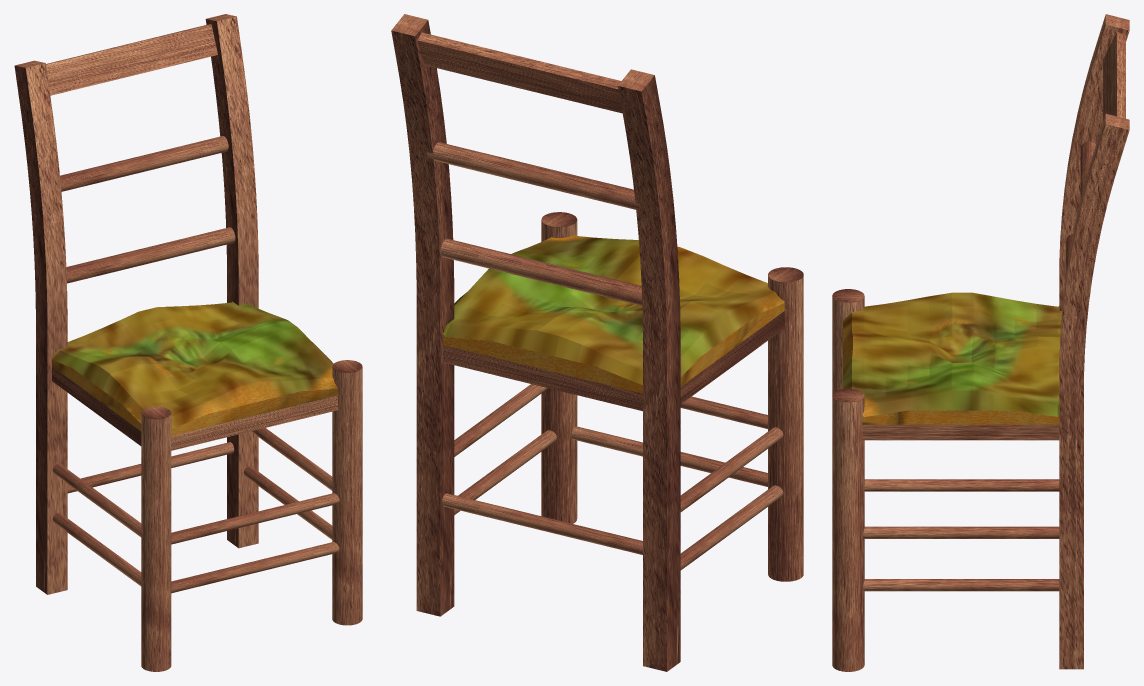
The model's file is chair1.gltf.
3 renders of one model, left to right at view 1: azimuth 30°, elevation 25°; view 2: azimuth 150°, elevation 25°; view 3: azimuth 270°, elevation 25°, orthographic. The views are drawn at different scales.
Visible parts, largest first — view 1: 큐브.003, 큐브.002, 큐브.001, 실린더.001, 실린더.004, 큐브.004, 큐브, 실린더.002, 실린더.003, 실린더.006, 실린더.007, 실린더.010 (+4 smaller); view 2: 큐브.003, 큐브.002, 큐브.001, 실린더.001, 큐브.004, 큐브, 실린더.004, 실린더.003, 실린더.002, 실린더.010, 실린더.007, 실린더 (+4 smaller); view 3: 큐브.003, 큐브.001, 실린더.004, 큐브.002, 큐브, 실린더.008, 실린더.009, 실린더.005, 큐브.004, 실린더.001, 실린더.003.
Boxes of the visible parts, x1=… form: 큐브.003: x1=52, y1=301, x2=337, y2=435; 큐브.002: x1=14, y1=60, x2=67, y2=594; 큐브.001: x1=205, y1=14, x2=258, y2=548; 실린더.001: x1=141, y1=406, x2=171, y2=671; 실린더.004: x1=332, y1=360, x2=362, y2=625; 큐브.004: x1=46, y1=24, x2=217, y2=95; 큐브: x1=52, y1=366, x2=337, y2=450; 실린더.002: x1=66, y1=227, x2=235, y2=283; 실린더.003: x1=60, y1=136, x2=228, y2=191; 실린더.006: x1=171, y1=493, x2=339, y2=544; 실린더.007: x1=171, y1=542, x2=339, y2=593; 실린더.010: x1=67, y1=442, x2=234, y2=493; 큐브.003: x1=443, y1=235, x2=784, y2=393; 큐브.002: x1=618, y1=69, x2=680, y2=671; 큐브.001: x1=391, y1=14, x2=454, y2=616; 실린더.001: x1=768, y1=267, x2=803, y2=581; 큐브.004: x1=417, y1=32, x2=622, y2=113; 큐브: x1=443, y1=311, x2=784, y2=411; 실린더.004: x1=541, y1=212, x2=577, y2=523; 실린더.003: x1=427, y1=142, x2=639, y2=209; 실린더.002: x1=440, y1=238, x2=642, y2=305; 실린더.010: x1=442, y1=493, x2=642, y2=554; 실린더.007: x1=571, y1=426, x2=767, y2=486; 실린더: x1=680, y1=427, x2=783, y2=511; 큐브.003: x1=842, y1=292, x2=1062, y2=424; 큐브.001: x1=1059, y1=113, x2=1129, y2=669; 실린더.004: x1=832, y1=388, x2=864, y2=671; 큐브.002: x1=1059, y1=14, x2=1129, y2=310; 큐브: x1=862, y1=424, x2=1059, y2=440; 실린더.008: x1=863, y1=579, x2=1059, y2=591; 실린더.009: x1=863, y1=526, x2=1059, y2=538; 실린더.005: x1=864, y1=479, x2=1059, y2=491; 큐브.004: x1=1103, y1=32, x2=1125, y2=121; 실린더.001: x1=832, y1=289, x2=864, y2=394; 실린더.003: x1=1080, y1=141, x2=1095, y2=198.
Bounding box in the file's own units: 21.6 × 48.63 × 23.98.
2 materials, 2 textured.
